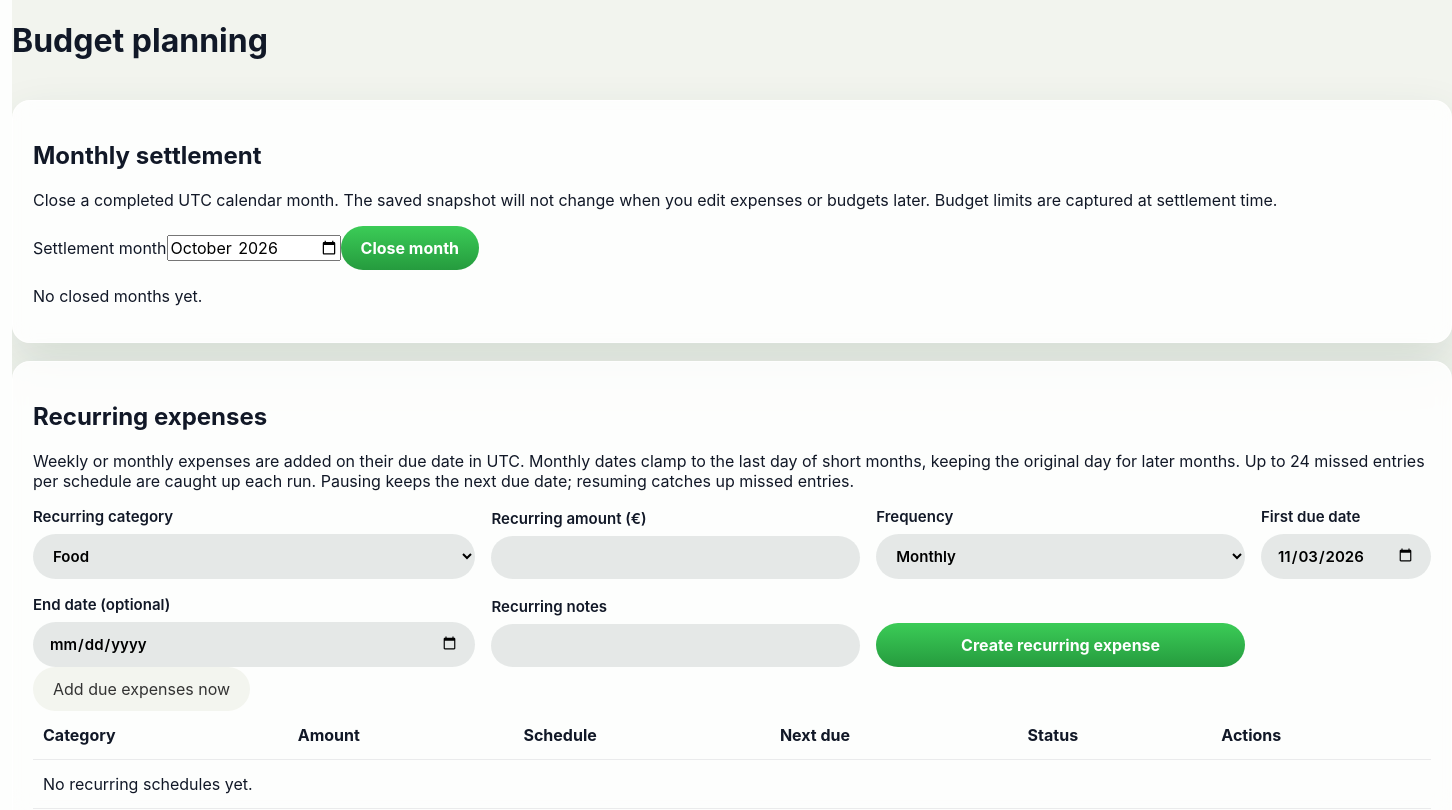
Test: closes a month and displays its immutable budget and spending snapshot
Replace the text in the field labelled "Settlement month" with "2026-01": (254, 248) [167, 235, 341, 261]
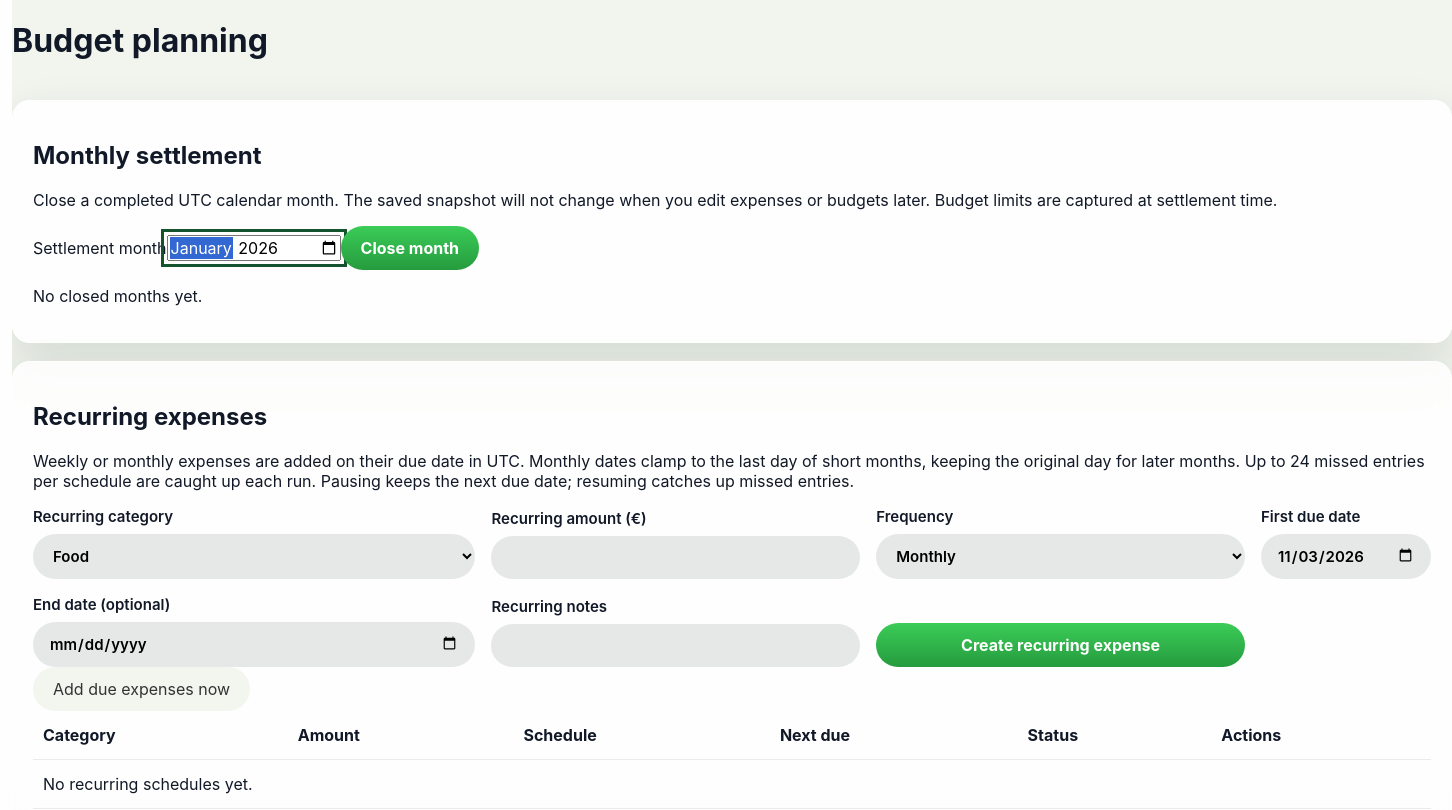
Click the button "Close month": (410, 248) [341, 226, 479, 270]
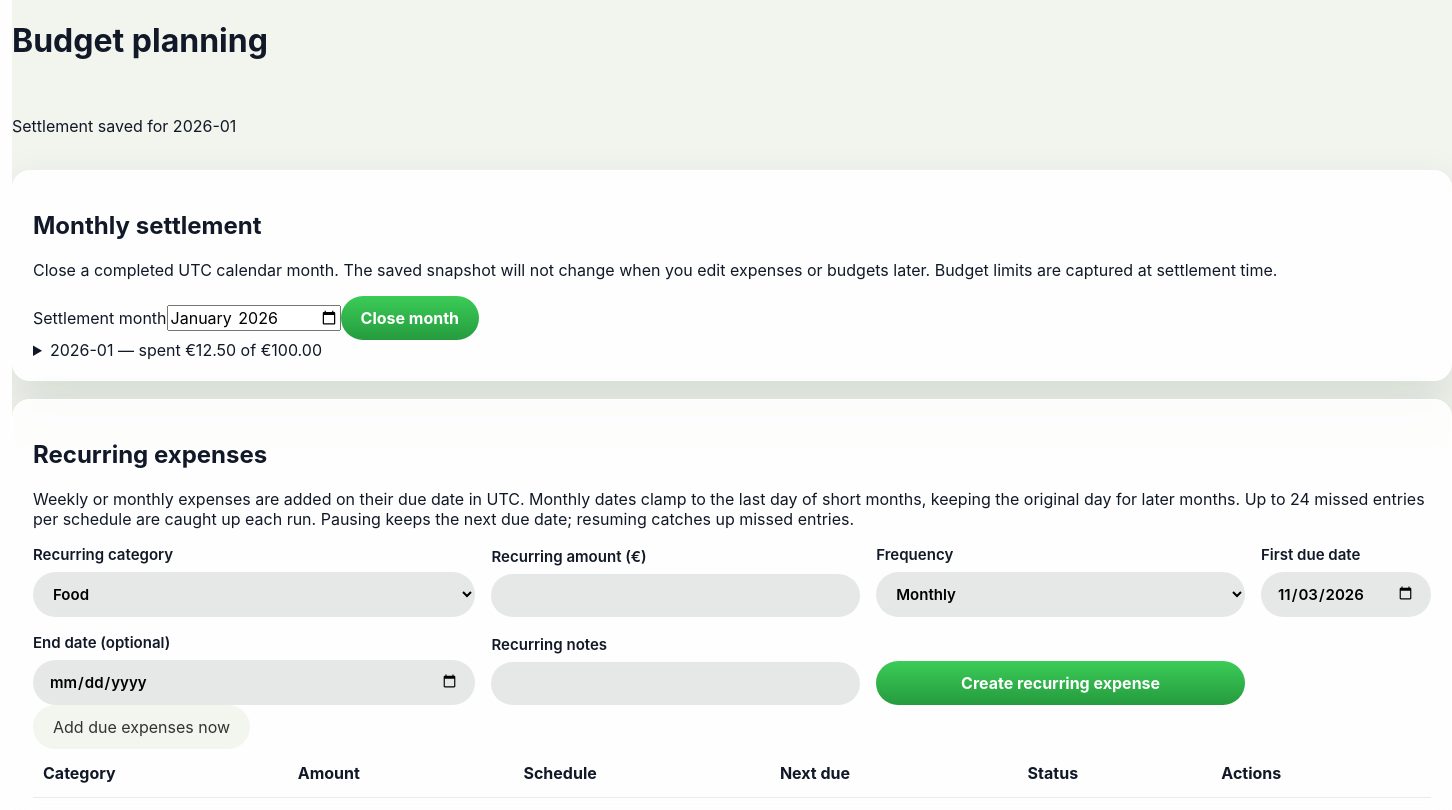
Check: the text "Settlement saved for 2026-01" is shown, box [12, 116, 236, 136]
Check: the heading "2026-01 — spent €12.50 of €100.00" is shown, box [50, 340, 322, 360]
